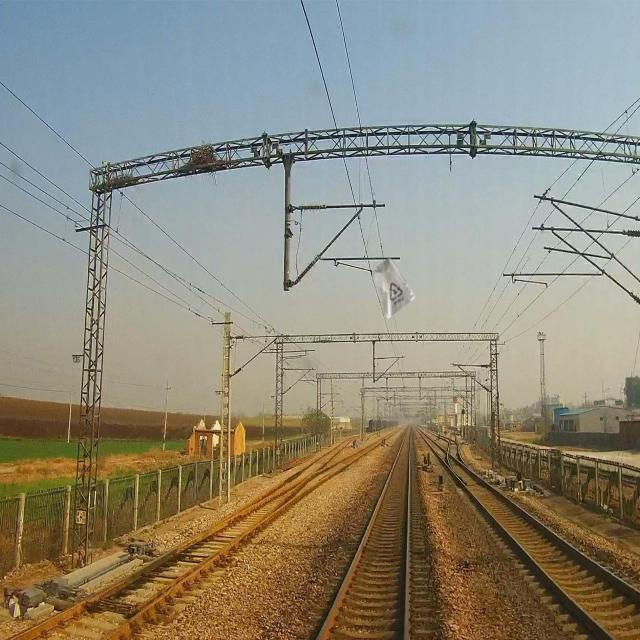plastic bag: (374, 259, 416, 320)
